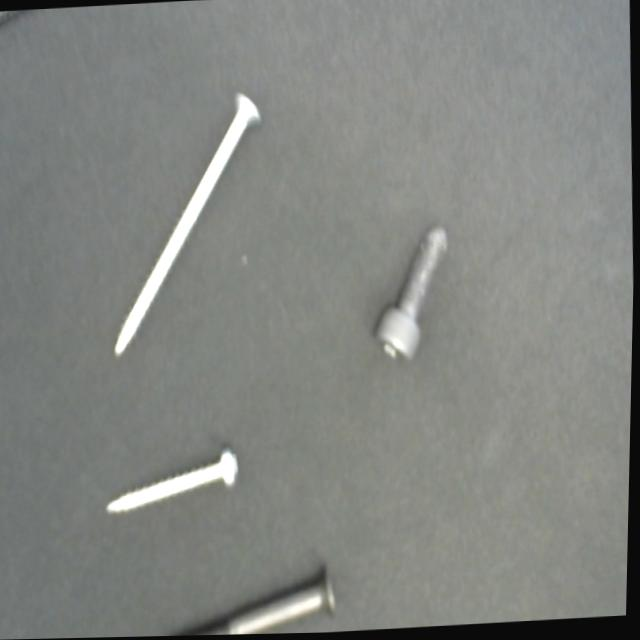FlatHeadSocketScrew: (148, 555, 352, 637)
SheetMetalScrew: (101, 434, 249, 530)
SocketHeadCapScrew: (365, 220, 459, 380)
WoodScrew: (98, 82, 278, 379)
